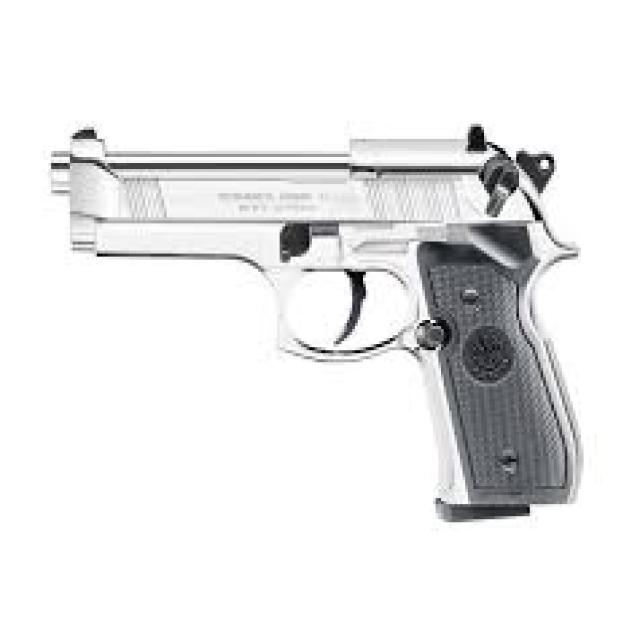pistol: (44, 116, 598, 535)
